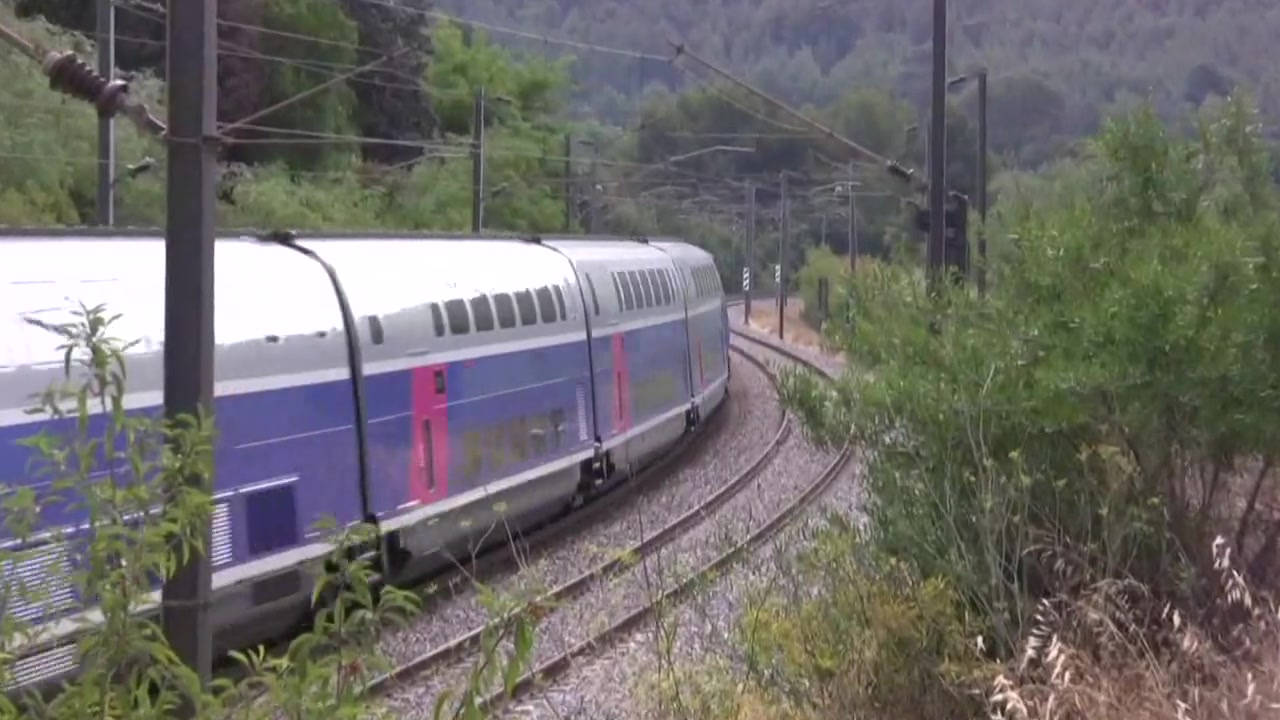train: (1, 224, 735, 718)
